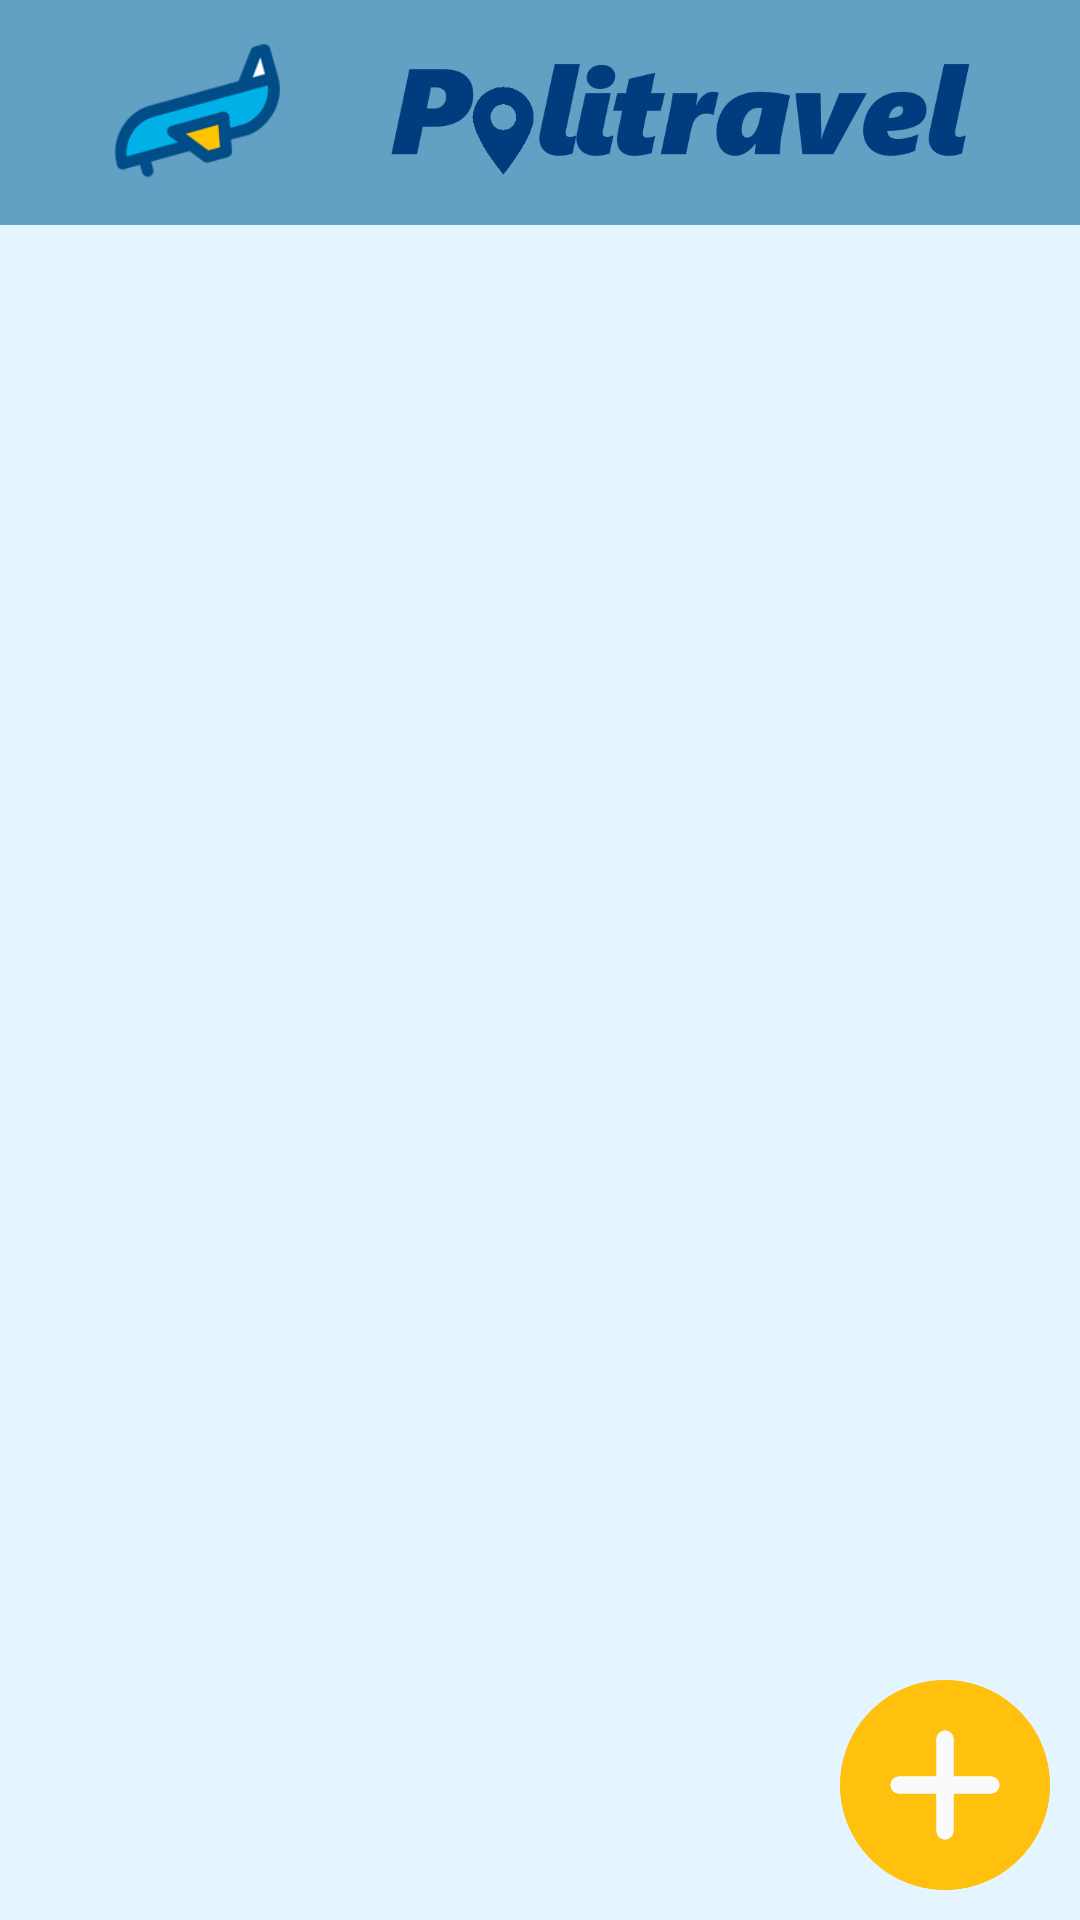

Icon bounding boxes for this 1080 × 1920 phone screenshot, format (x1, y1, x2, y2):
plus: (840, 1680, 1050, 1890)
